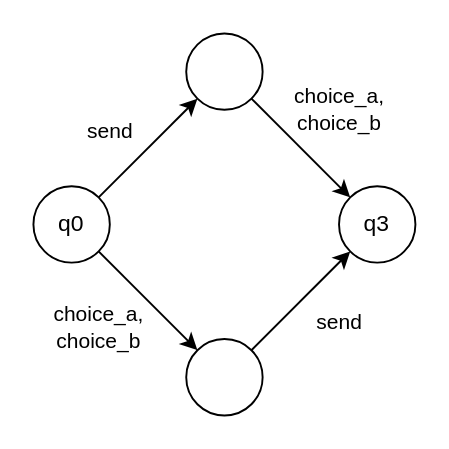
Some shapes in this 449 by 449 pixel diagram are drawn without their labels. Here are the shapes that lost their labels. From the top down, the box of each, then its label:
(184, 32, 263, 110): q1
(184, 337, 263, 415): q2
